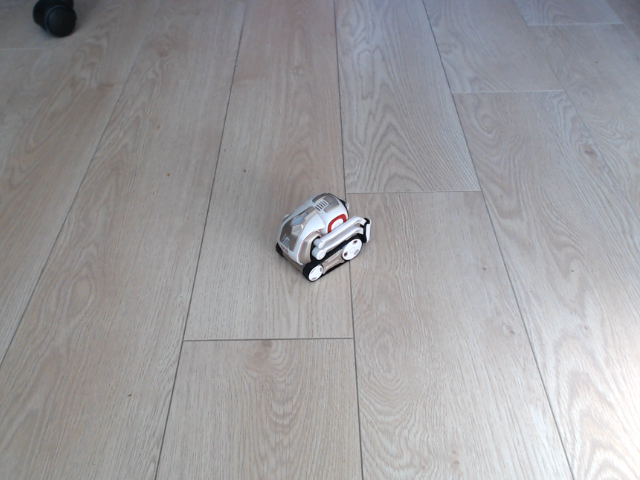cozmo: (274, 190, 374, 283)
